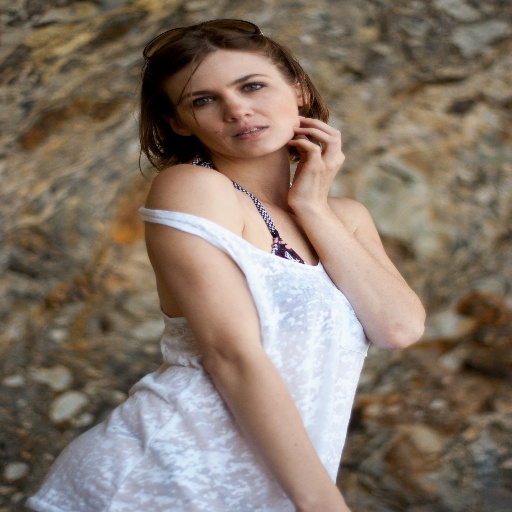hand: (279, 95, 346, 209)
